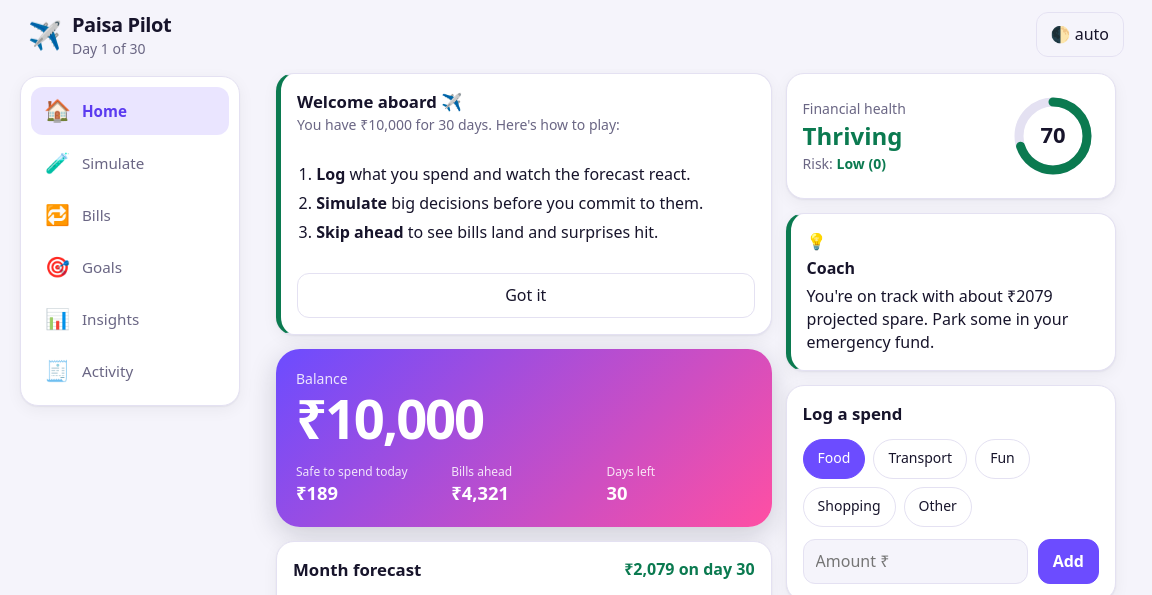
Test: App › logging a spend lowers the balance and the safe-to-spend figure updates
The width and height of the screenshot is (1152, 595).
Type "500" into the number field named "spend amount" at point(915, 561), box [803,539,1028,584]
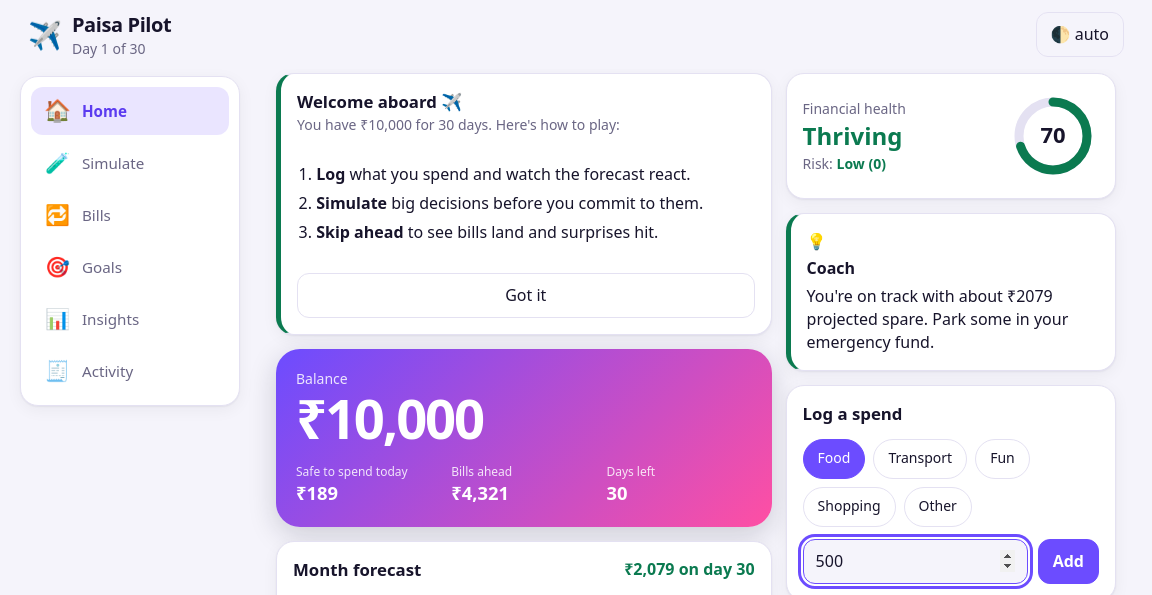
Click the button "Add" at point(1068, 561), box [1038,539,1099,584]
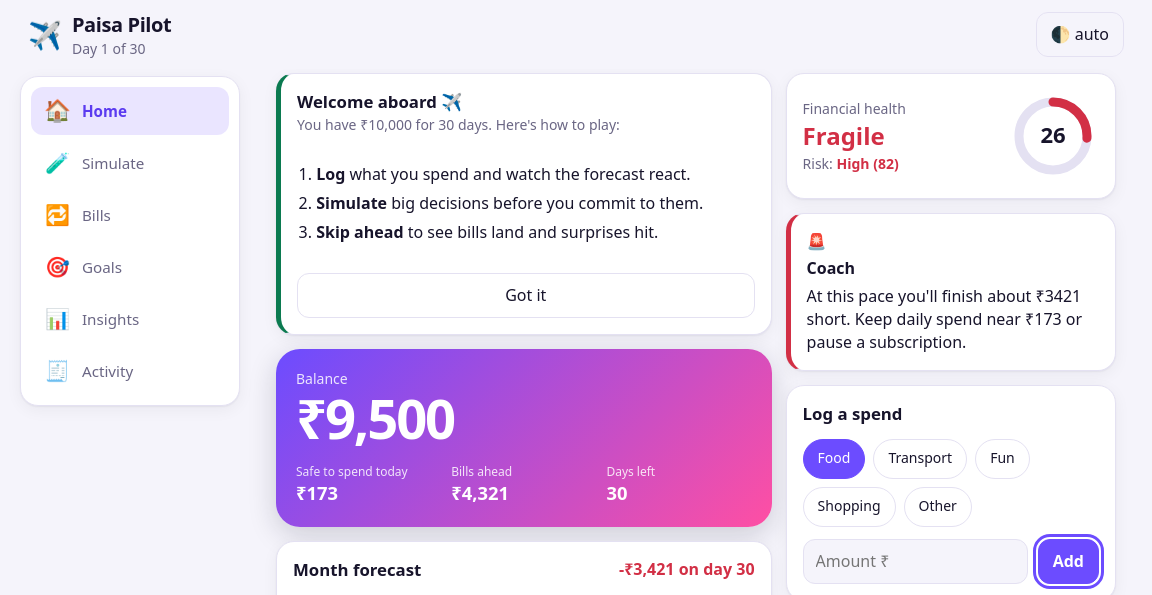
Check: the text "₹9,500" is shown, box [296,381,454,455]
